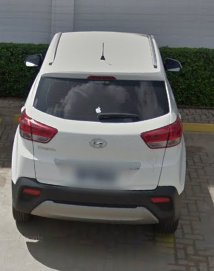car: (10, 30, 187, 232)
